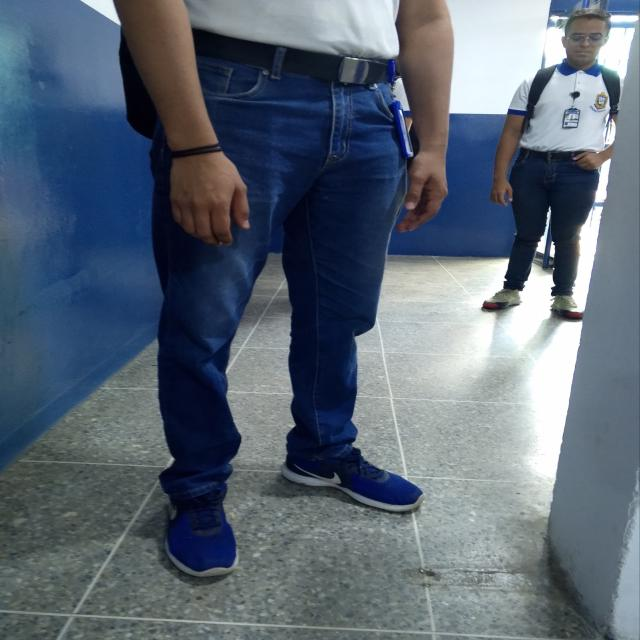carnet: (398, 109, 414, 153), (562, 109, 580, 128)
pantalon_oscuro: (150, 53, 408, 505), (503, 156, 599, 296)
uniforme_superior: (507, 58, 622, 152)
